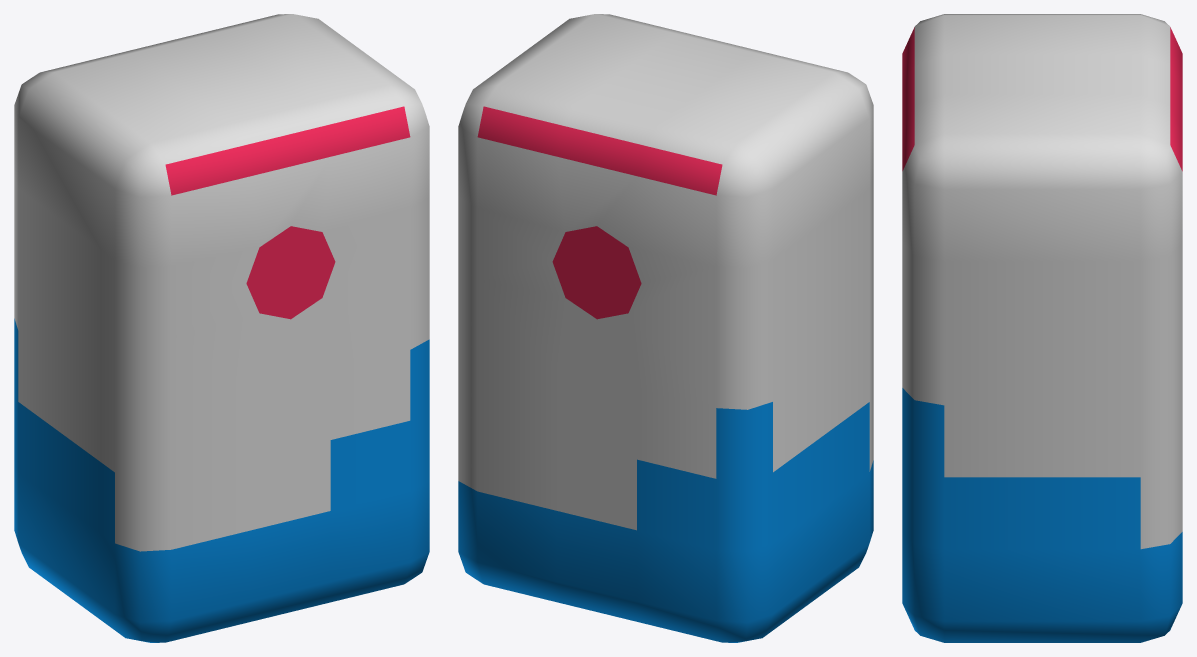
File: sugar.glb
3 renders of one model, left to right at view 1: azimuth 30°, elevation 25°; view 2: azimuth 150°, elevation 25°; view 3: azimuth 270°, elevation 25°, orthographic.
Parts seen in each view (by area): view 1: sugar; view 2: sugar; view 3: sugar.
Part boxes in pixels (x1,y1,x2,y2): sugar: [14, 14, 429, 642]; sugar: [458, 14, 873, 642]; sugar: [902, 14, 1182, 642].
Bounding box in the file's own units: 0.13 × 0.2 × 0.1.
